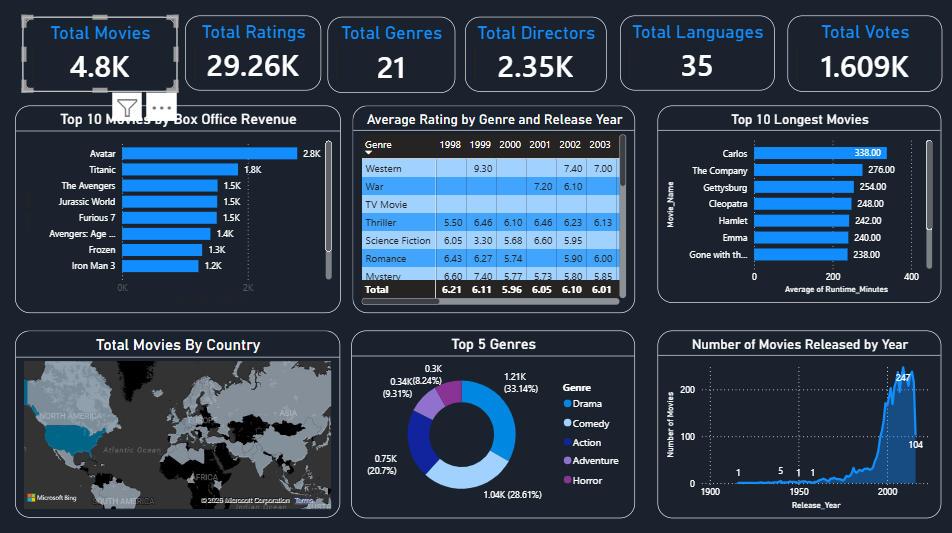

Layout of this report page (visuals, bound fields, positions):
{"tool":"powerbi","page":{"name":"Page 1","canvas":[1280,720],"ordinal":0},"visuals":[{"type":"filledMap","title":"Total Movies By Country","fields":{"Category":["real_movies_dataset.Country"]},"box":[20.6,443.2,433.6,249.7],"z":0},{"type":"donutChart","title":"Top 5 Genres","fields":{"Category":["real_movies_dataset.Genre"],"Y":["Count(real_movies_dataset.Movie_ID)"]},"box":[468.3,443.3,378.3,250],"z":1000},{"type":"barChart","title":"Top 10 Movies by Box Office Revenue","fields":{"Y":["Sum(real_movies_dataset.Box_Office_Millions)"],"Category":["real_movies_dataset.Movie_Name"]},"box":[20,142.9,434.3,277.1],"z":2000},{"type":"lineChart","title":"Number of Movies Released by Year","fields":{"Category":["real_movies_dataset.Release_Year"],"Y":["CountNonNull(real_movies_dataset.Movie_Name)"]},"box":[877.1,442.9,378.6,250],"z":3000},{"type":"pivotTable","title":"Average Rating by Genre and Release Year","fields":{"Rows":["real_movies_dataset.Genre"],"Columns":["real_movies_dataset.Release_Year"],"Values":["Avg(real_movies_dataset.Rating)"]},"box":[470,142.9,377.1,277.1],"z":4000},{"type":"clusteredBarChart","title":"Top 10 Longest Movies","fields":{"Category":["real_movies_dataset.Movie_Name"],"Y":["Avg(real_movies_dataset.Runtime_Minutes)"]},"box":[877.1,142.9,378.6,262.9],"z":5000},{"type":"cardVisual","title":"Total Movies","fields":{"Data":["Count(real_movies_dataset.Movie_Name)"]},"box":[30,25,206.7,100],"z":6000},{"type":"cardVisual","title":"Total Genres","fields":{"Data":["Count(real_movies_dataset.Genre)"]},"box":[436.9,24.6,170,101.5],"z":7000},{"type":"cardVisual","title":"Total Directors","fields":{"Data":["Count(real_movies_dataset.Director)"]},"box":[619.2,24.6,188.5,100],"z":8000},{"type":"cardVisual","title":"Total Votes","fields":{"Data":["Count(real_movies_dataset.Votes)"]},"box":[1050,22.5,206.2,101.2],"z":9000},{"type":"cardVisual","title":"Total Ratings","fields":{"Data":["Sum(real_movies_dataset.Rating)"]},"box":[246.9,23.8,181.5,100],"z":10000},{"type":"cardVisual","title":"Total Languages","fields":{"Data":["Count(real_movies_dataset.Language)"]},"box":[827,23,206,100],"z":11000}]}

Visuals, with their boxes in screenshot pixels (x1, y1, x2, y2), scaled from the page's 1280x720 canvas onto the 952x533 screenshot:
"Total Movies By Country" filledMap: 15 328 338 513
"Top 5 Genres" donutChart: 348 328 630 513
"Top 10 Movies by Box Office Revenue" barChart: 15 106 338 311
"Number of Movies Released by Year" lineChart: 652 328 934 513
"Average Rating by Genre and Release Year" pivotTable: 350 106 630 311
"Top 10 Longest Movies" clusteredBarChart: 652 106 934 300
"Total Movies" cardVisual: 22 19 176 93
"Total Genres" cardVisual: 325 18 451 93
"Total Directors" cardVisual: 461 18 601 92
"Total Votes" cardVisual: 781 17 934 92
"Total Ratings" cardVisual: 184 18 319 92
"Total Languages" cardVisual: 615 17 768 91
